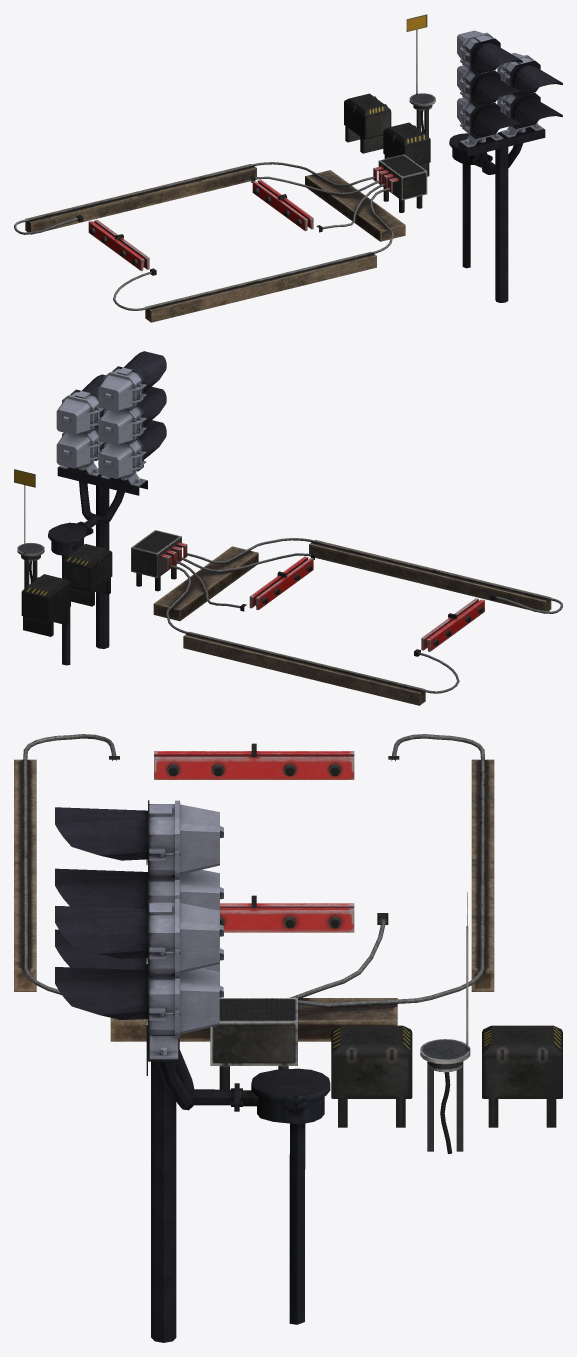
The model's file is RM_sig_KM1_3+2_exit.gltf.
3 views of the same model, one above another, from view 1: azimuth 30°, elevation 25°; view 2: azimuth 150°, elevation 25°; view 3: azimuth 270°, elevation 25° (orthographic). The views are drawn at different scales.
Parts seen in each view (by area): view 1: Изостык, Object_1, Object_2, Object_3; view 2: Изостык, Object_1, Object_2, Object_3; view 3: Изостык, Object_1, Object_2, Object_3.
Part boxes in pixels (x1,y1,x2,y2): Изостык: (14, 14, 435, 322); Object_1: (457, 30, 562, 147); Object_2: (458, 127, 545, 302); Object_3: (449, 133, 478, 268); Изостык: (14, 469, 562, 705); Object_1: (56, 351, 166, 486); Object_2: (57, 466, 147, 648); Object_3: (48, 522, 86, 665); Изостык: (14, 734, 562, 1153); Object_1: (55, 800, 223, 1059); Object_2: (146, 1025, 242, 1342); Object_3: (239, 1068, 330, 1324).
Bounding box in the file's own units: 4.38 × 2.49 × 2.43.
Materials: 6 (4 with a texture image).
